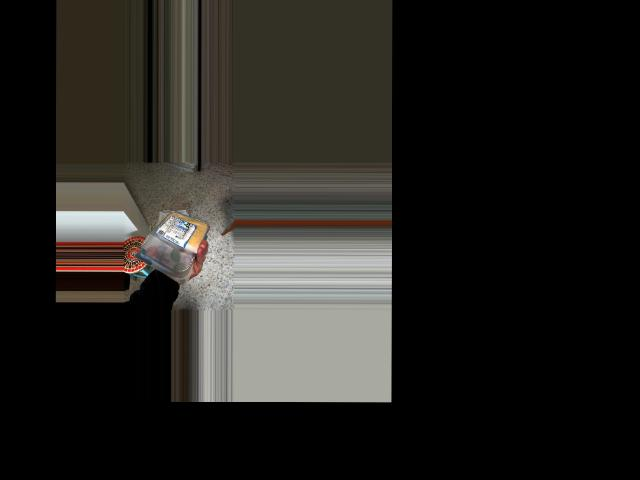cheese: (134, 204, 199, 279)
